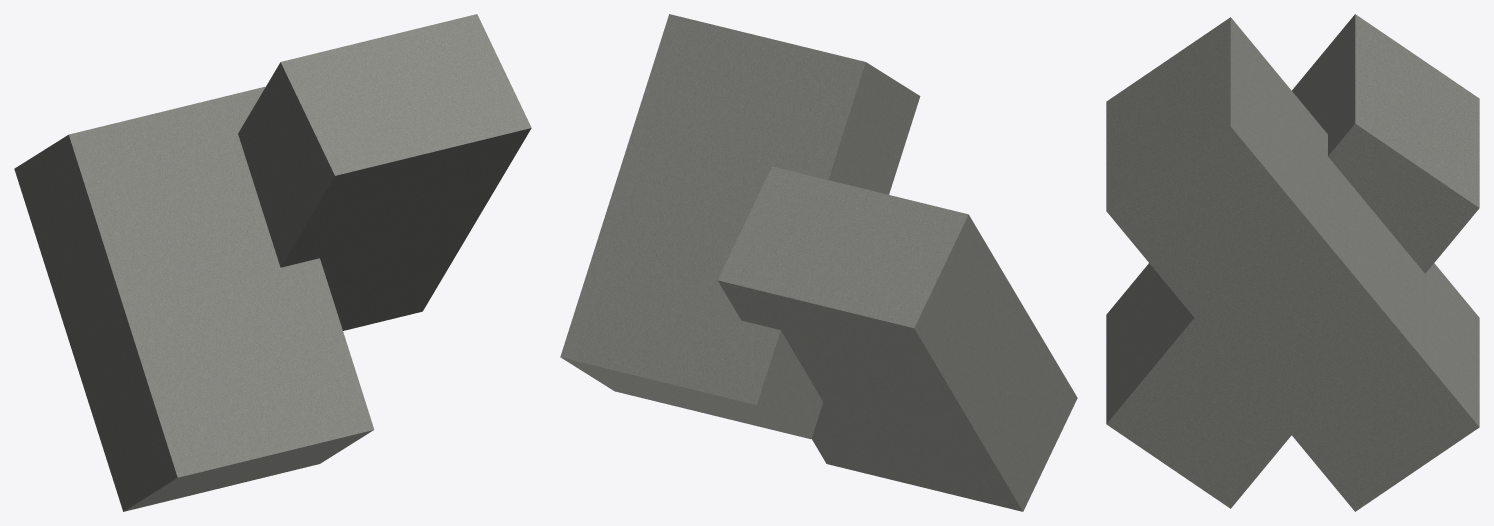
3 views of the same model, side by side, from view 1: azimuth 30°, elevation 25°; view 2: azimuth 150°, elevation 25°; view 3: azimuth 270°, elevation 25° (orthographic). The views are drawn at different scales.
Parts seen in each view (by area): view 1: roof_pitched_gable_lod0_run001; view 2: roof_pitched_gable_lod0_run001; view 3: roof_pitched_gable_lod0_run001.
Boxes of the visible parts, left/top/right/bottom form: roof_pitched_gable_lod0_run001: left=14, top=14, right=531, bottom=511; roof_pitched_gable_lod0_run001: left=560, top=14, right=1077, bottom=511; roof_pitched_gable_lod0_run001: left=1106, top=14, right=1479, bottom=511.
Size of the model in its own units: 4.5 by 5 by 3.6.
1 material, 1 textured.
